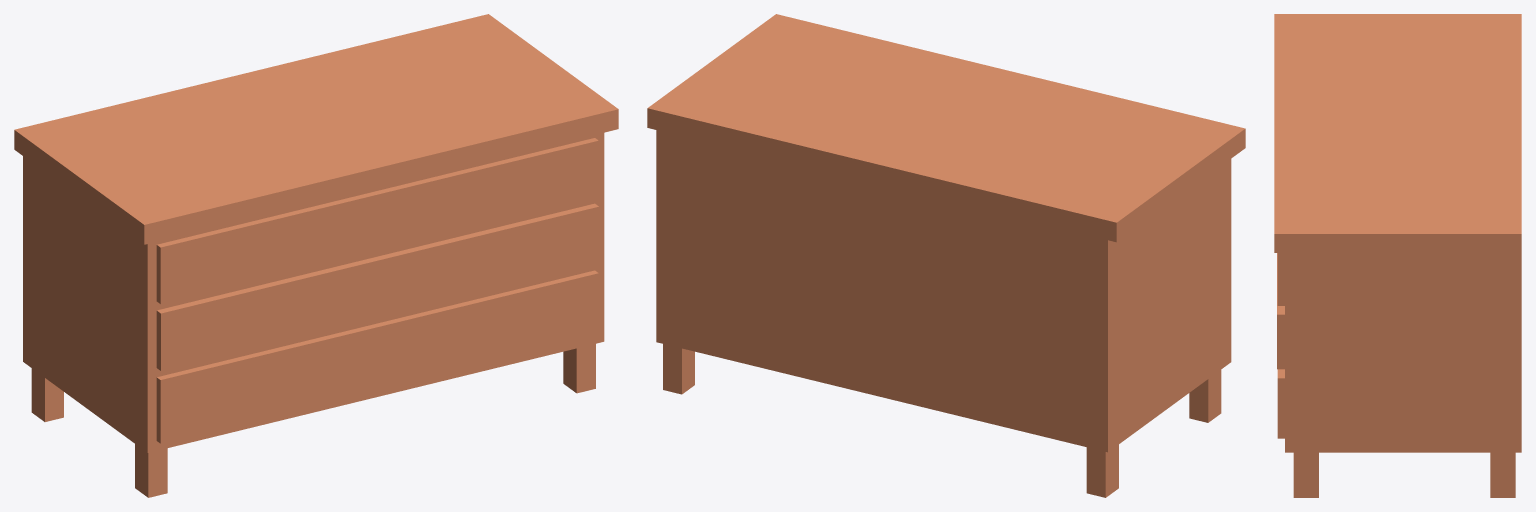
File: SM_Furniture_Bedroom_Drawers_02.fbx
3 views of the same model, side by side, from view 1: azimuth 30°, elevation 25°; view 2: azimuth 150°, elevation 25°; view 3: azimuth 270°, elevation 25° (orthographic). The views are drawn at different scales.
Parts seen in each view (by area): view 1: Bedroom_Drawers_02; view 2: Bedroom_Drawers_02; view 3: Bedroom_Drawers_02.
Boxes of the visible parts, box(x1,y1,x2,y2) form: Bedroom_Drawers_02: box(14, 14, 618, 497); Bedroom_Drawers_02: box(647, 14, 1245, 497); Bedroom_Drawers_02: box(1274, 14, 1521, 497).
Bounding box in the file's own units: 132 × 75.44 × 62.66.
